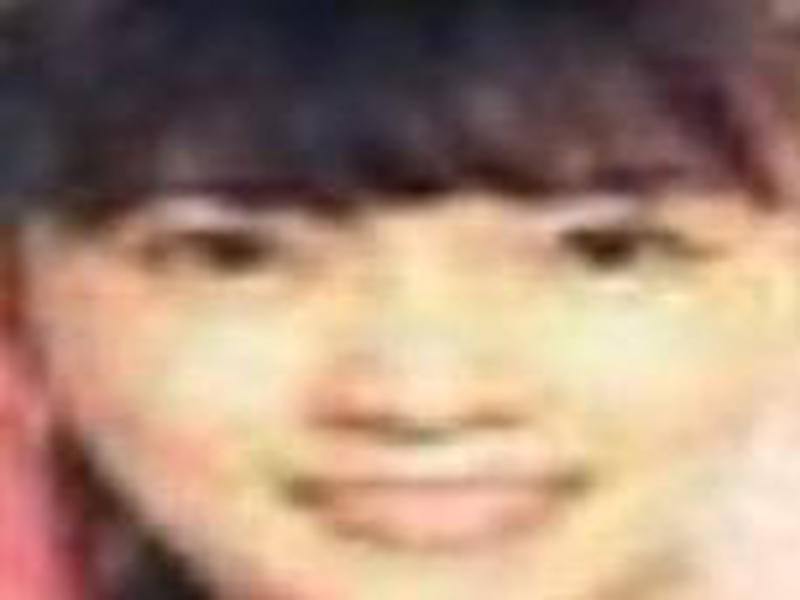without_mask: (20, 133, 800, 600)
